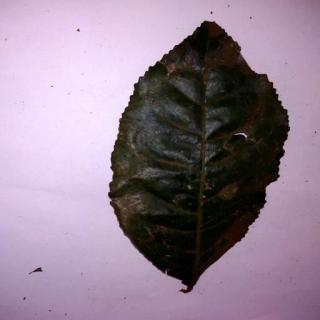Anthracnose: (107, 22, 291, 294)
